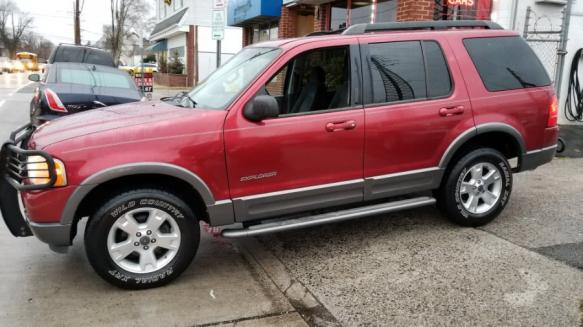Ford Explorer: (1, 19, 560, 291)
